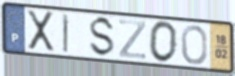I: (62, 13, 71, 55)
O: (148, 20, 179, 65), (180, 24, 209, 67)
S: (87, 15, 117, 59)
X: (25, 9, 57, 53)
Z: (118, 18, 148, 61)
